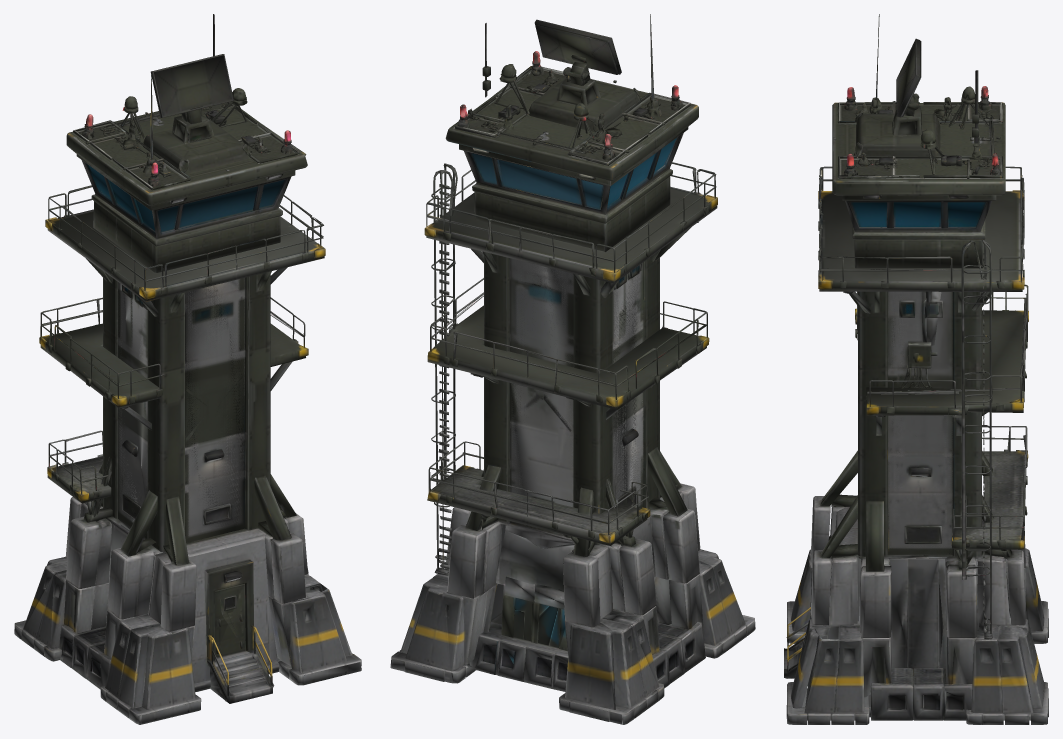
Rendered from wachturm_modern_original.glb.
3 renders of one model, left to right at view 1: azimuth 30°, elevation 25°; view 2: azimuth 150°, elevation 25°; view 3: azimuth 270°, elevation 25°, orthographic. The views are drawn at different scales.
Size of the model in its own units: 0.3706 by 0.9512 by 0.3643.
Materials: 1 (1 with a texture image).
